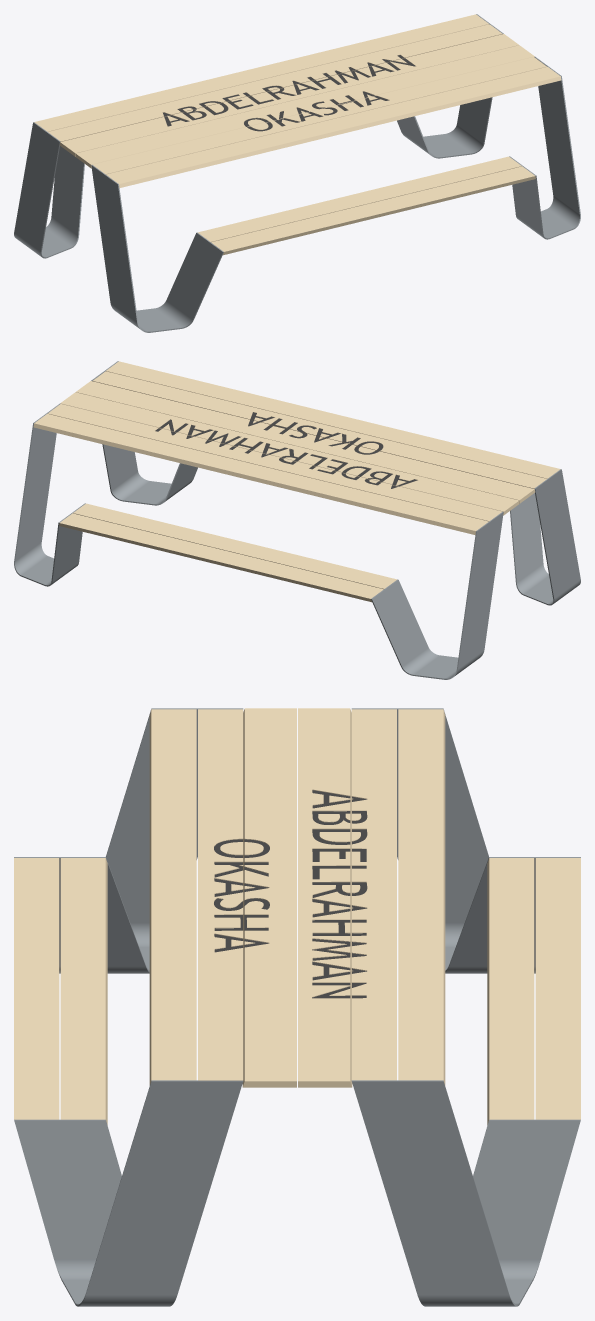
The picture shows the model from 3 angles, top to bottom: view 1: azimuth 30°, elevation 25°; view 2: azimuth 150°, elevation 25°; view 3: azimuth 270°, elevation 25°; orthographic projection. The views are drawn at different scales.
Visible parts, largest first — view 1: 121; view 2: 121; view 3: 121.
Boxes of the visible parts, x1,y1,x2,y2 form: 121: [14, 14, 580, 332]; 121: [14, 361, 580, 679]; 121: [14, 708, 580, 1306].
Bounding box in the file's own units: 2.55 × 0.7386 × 1.64.
